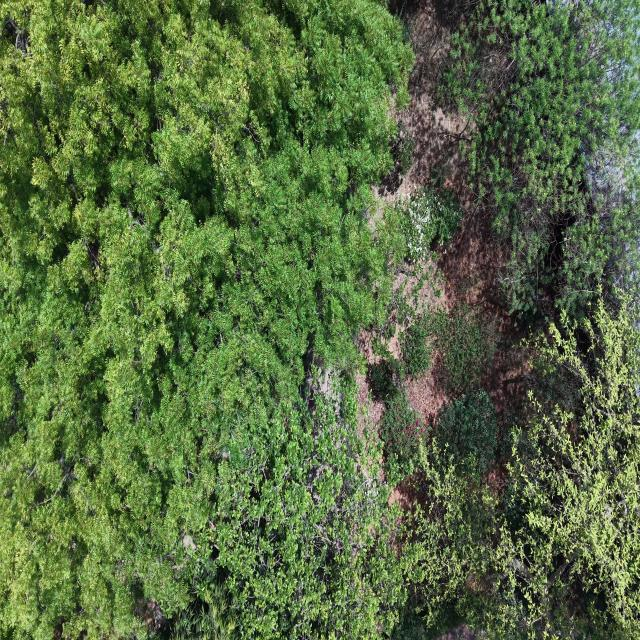DRY_AREA: (378, 0, 528, 417), (378, 0, 527, 414), (419, 204, 528, 414), (438, 207, 529, 418), (439, 208, 529, 415), (380, 0, 473, 196), (398, 0, 472, 217), (405, 371, 446, 423), (357, 374, 383, 424), (437, 625, 477, 639)
VEGETATION_TREE: (0, 0, 639, 639), (0, 0, 411, 638), (396, 2, 639, 638), (409, 297, 639, 638), (440, 0, 639, 315), (508, 296, 639, 637), (402, 302, 498, 393), (427, 303, 497, 393), (437, 390, 497, 475), (380, 387, 430, 485), (397, 186, 461, 262), (402, 315, 433, 378)
